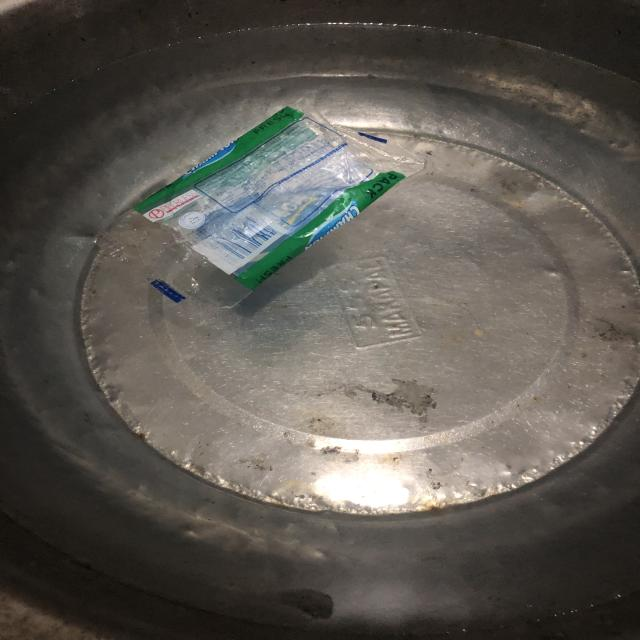Plastic Wrapper: (63, 72, 460, 338)
